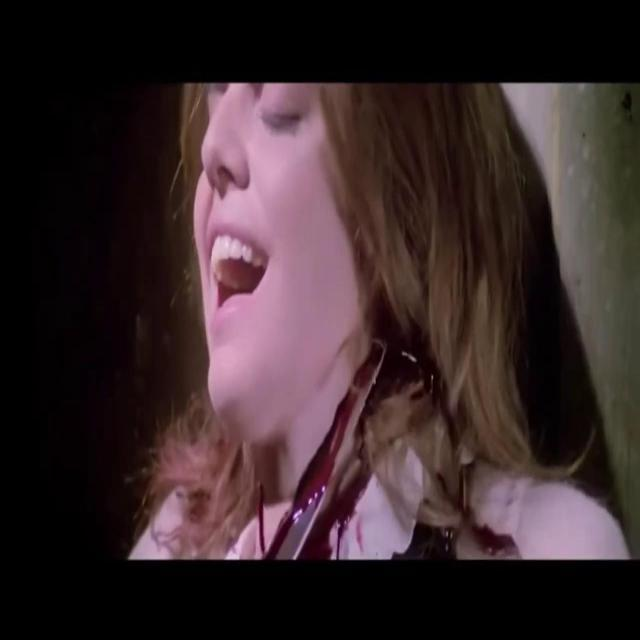flood: (276, 335, 518, 559)
